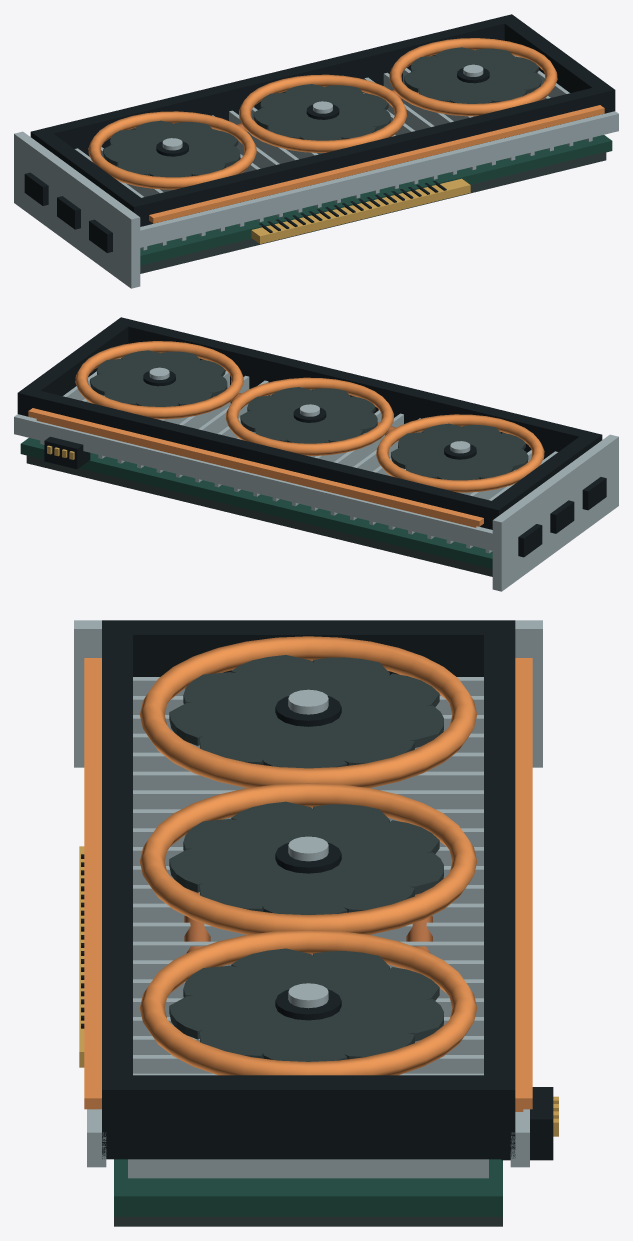
File: gpu-nitro.glb
3 renders of one model, top to bottom at view 1: azimuth 30°, elevation 25°; view 2: azimuth 150°, elevation 25°; view 3: azimuth 270°, elevation 25°, orthographic. The views are drawn at different scales.
Visible parts, largest first — view 1: Rubber and ABS, Brushed aluminium, Industrial orange, Anodized graphite (×3), gpu-nitro, Contacts, fan-rotor (×3); view 2: Rubber and ABS, Brushed aluminium, Industrial orange, Anodized graphite (×3), gpu-nitro, fan-rotor (×3); view 3: Rubber and ABS, Anodized graphite (×3), Industrial orange, Brushed aluminium, gpu-nitro, fan-rotor (×3), Contacts, Copper heat pipes.
Part boxes in pixels (x1,y1,x2,y2): Rubber and ABS: (24, 14, 615, 252); Brushed aluminium: (14, 55, 618, 288); Industrial orange: (88, 38, 604, 223); Anodized graphite (×3): (103, 47, 541, 177); gpu-nitro: (140, 135, 612, 273); Contacts: (251, 178, 470, 243); fan-rotor (×3): (156, 64, 489, 156); Rubber and ABS: (17, 317, 606, 557); Brushed aluminium: (14, 358, 618, 591); Industrial orange: (28, 341, 544, 527); Anodized graphite (×3): (90, 350, 528, 480); gpu-nitro: (20, 438, 492, 576); fan-rotor (×3): (143, 367, 476, 459); Rubber and ABS: (81, 620, 553, 1160); Anodized graphite (×3): (169, 655, 443, 1061); Industrial orange: (84, 636, 532, 1111); Brushed aluminium: (74, 620, 542, 1178); gpu-nitro: (114, 1159, 502, 1226); fan-rotor (×3): (275, 689, 341, 1020); Contacts: (79, 846, 558, 1136); Copper heat pipes: (184, 889, 432, 953).
Size of the model in its own units: 3.3 by 0.5085 by 1.4.
